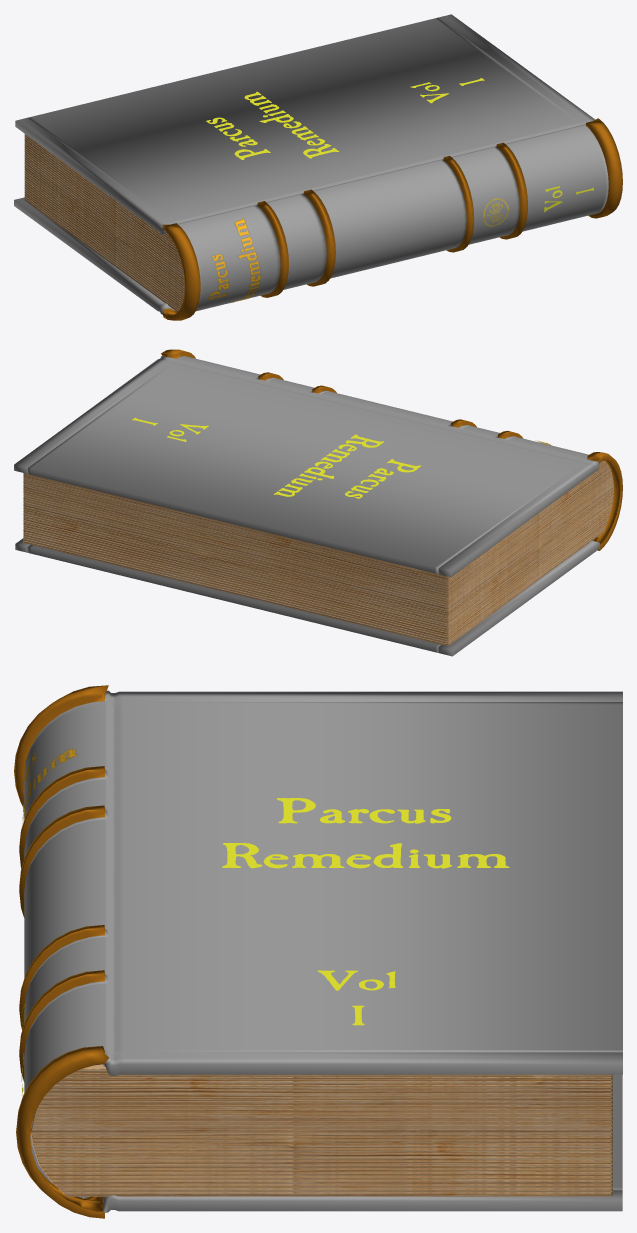
3 views of the same model, one above another, from view 1: azimuth 30°, elevation 25°; view 2: azimuth 150°, elevation 25°; view 3: azimuth 270°, elevation 25° (orthographic). The views are drawn at different scales.
Parts seen in each view (by area): view 1: cover (×2), pages, Text, PM; view 2: cover (×2), pages, Text; view 3: cover (×2), pages, Text, Text.001.
Part boxes in pixels (x1,y1,x2,y2): cover (×2): [14, 14, 622, 320]; pages: [24, 134, 184, 312]; Text: [206, 91, 338, 159]; PM: [208, 218, 260, 302]; cover (×2): [14, 349, 622, 656]; pages: [23, 460, 614, 645]; Text: [273, 434, 420, 498]; cover (×2): [14, 685, 622, 1218]; pages: [30, 1064, 612, 1196]; Text: [222, 798, 509, 868]; Text.001: [317, 970, 395, 1025].
Size of what is drawn, in the model's own units: 10.67 by 2.19 by 7.35.
Materials: 6 (4 with a texture image).
